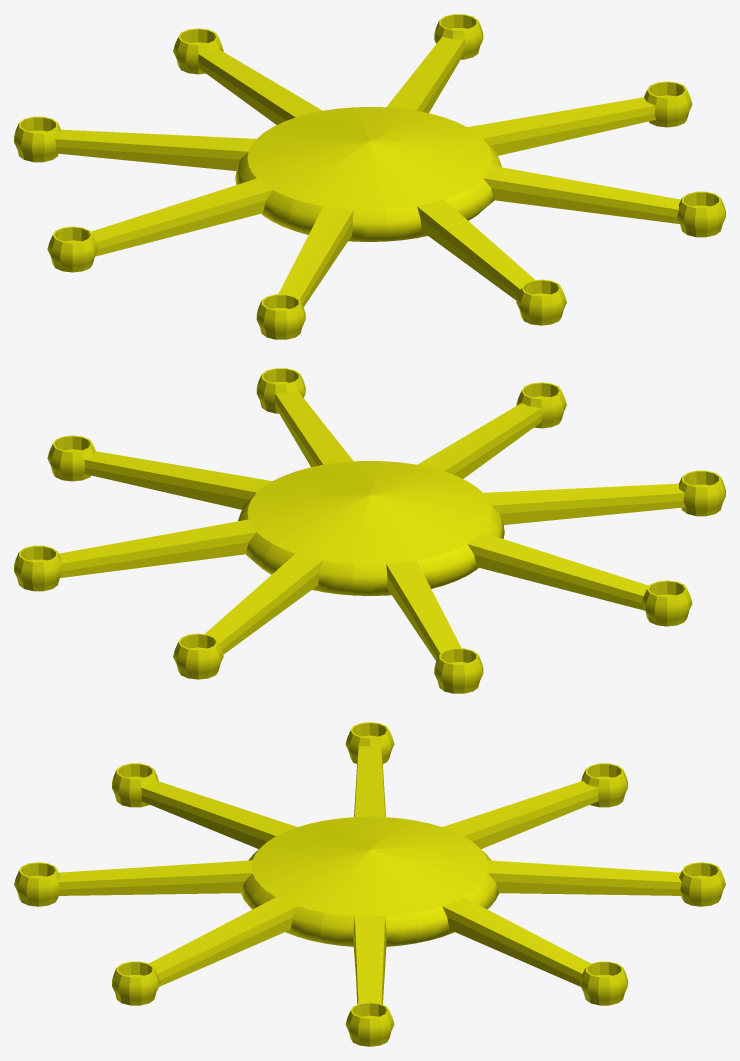
The model's file is body8_19.fbx.
The picture shows the model from 3 angles, top to bottom: view 1: azimuth 30°, elevation 25°; view 2: azimuth 150°, elevation 25°; view 3: azimuth 270°, elevation 25°; orthographic projection. The views are drawn at different scales.
Parts seen in each view (by area): view 1: pCylinder276; view 2: pCylinder276; view 3: pCylinder276.
Part boxes in pixels (box(x1,y1,x2,y2)): pCylinder276: box(14, 14, 725, 339); pCylinder276: box(14, 368, 725, 693); pCylinder276: box(14, 722, 725, 1046).
Bounding box in the file's own units: 36.48 × 2.75 × 36.48.
